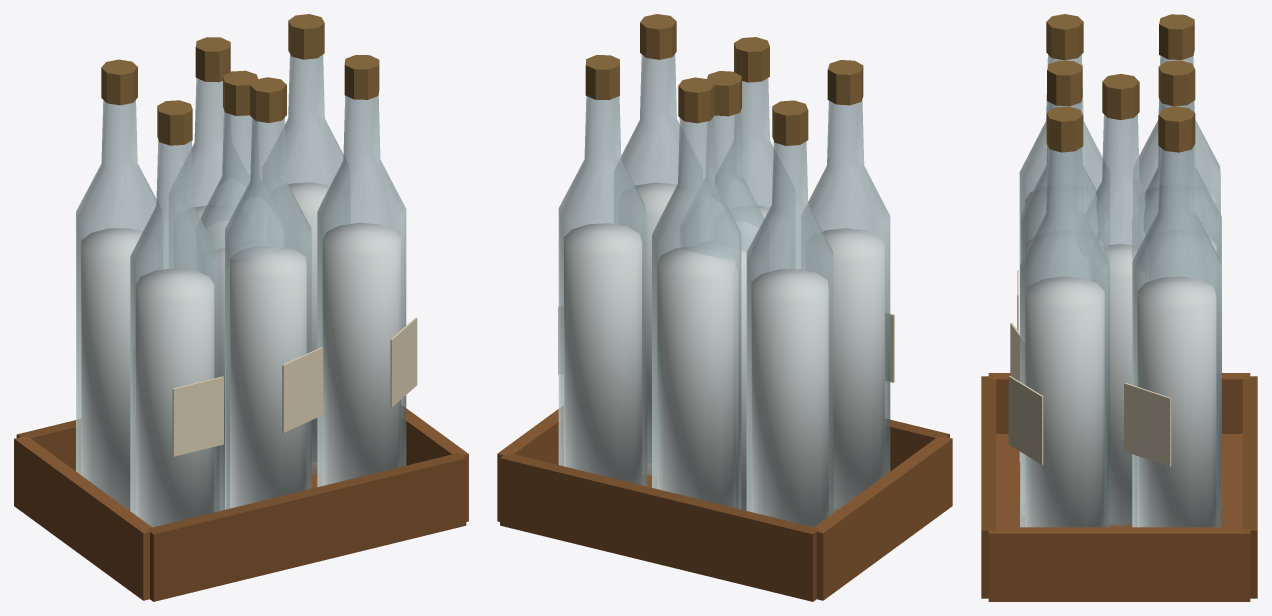
File: Alc_Spirits.fbx
The picture shows the model from 3 angles, left to right: view 1: azimuth 30°, elevation 25°; view 2: azimuth 150°, elevation 25°; view 3: azimuth 270°, elevation 25°; orthographic projection.
Visible parts, largest first — view 1: Alc_Spirits__Stack, Alc_Spirits; view 2: Alc_Spirits__Stack, Alc_Spirits; view 3: Alc_Spirits__Stack, Alc_Spirits.
Boxes of the visible parts, x1,y1,x2,y2 form: Alc_Spirits__Stack: [14, 14, 468, 601]; Alc_Spirits: [196, 70, 284, 511]; Alc_Spirits__Stack: [497, 14, 952, 601]; Alc_Spirits: [680, 71, 768, 511]; Alc_Spirits__Stack: [981, 14, 1257, 601]; Alc_Spirits: [1085, 74, 1156, 526].
Size of the model in its own units: 0.202 by 0.266 by 0.147.
